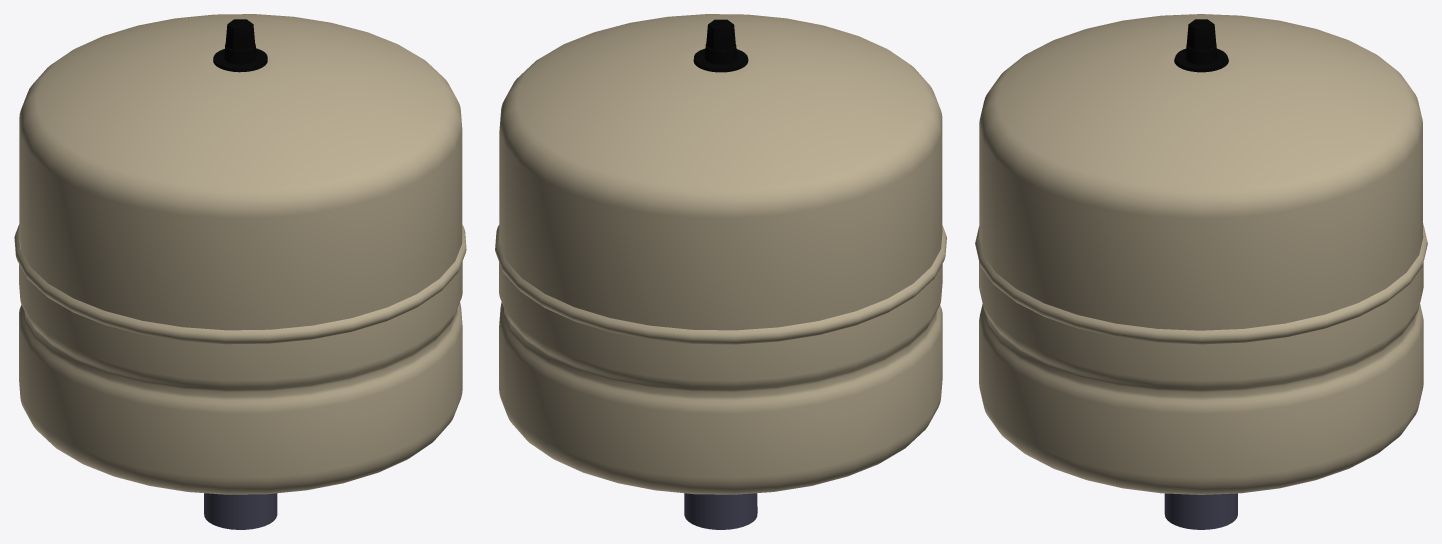
File: 5lt-sabit-tank.obj
The picture shows the model from 3 angles, left to right: view 1: azimuth 30°, elevation 25°; view 2: azimuth 150°, elevation 25°; view 3: azimuth 270°, elevation 25°; orthographic projection.
Visible parts, largest first — view 1: 5lt-sabit-tank.006, 5lt-sabit-tank.001, 5lt-sabit-tank.005, 5lt-sabit-tank.007, 5lt-sabit-tank; view 2: 5lt-sabit-tank.006, 5lt-sabit-tank.001, 5lt-sabit-tank.005, 5lt-sabit-tank.007, 5lt-sabit-tank; view 3: 5lt-sabit-tank.006, 5lt-sabit-tank.001, 5lt-sabit-tank.005, 5lt-sabit-tank.007, 5lt-sabit-tank.
Boxes of the visible parts, x1,y1,x2,y2 form: 5lt-sabit-tank.006: [19, 14, 462, 330]; 5lt-sabit-tank.001: [19, 239, 462, 494]; 5lt-sabit-tank.005: [14, 224, 466, 344]; 5lt-sabit-tank.007: [204, 493, 277, 529]; 5lt-sabit-tank: [213, 19, 267, 72]; 5lt-sabit-tank.006: [499, 14, 942, 330]; 5lt-sabit-tank.001: [499, 262, 942, 494]; 5lt-sabit-tank.005: [495, 225, 946, 344]; 5lt-sabit-tank.007: [684, 493, 757, 529]; 5lt-sabit-tank: [693, 19, 748, 72]; 5lt-sabit-tank.006: [979, 14, 1422, 330]; 5lt-sabit-tank.001: [979, 261, 1423, 494]; 5lt-sabit-tank.005: [975, 223, 1427, 344]; 5lt-sabit-tank.007: [1164, 493, 1237, 529]; 5lt-sabit-tank: [1174, 19, 1228, 72].
Bounding box in the file's own units: 8.34 × 9.96 × 8.34.
